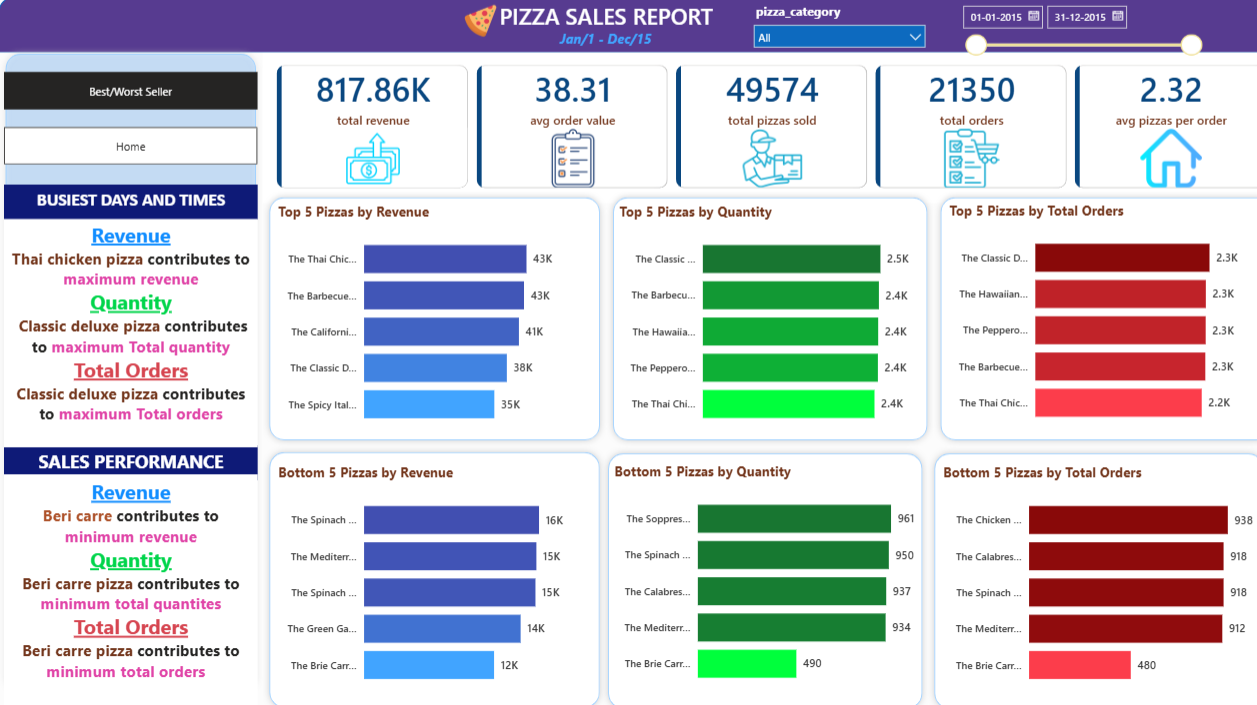

This screenshot's page, from the dashboard's own definition file:
{"tool":"powerbi","page":{"name":"Best/Worst Seller","canvas":[1550,889],"ordinal":1},"visuals":[{"type":"cardVisual","fields":{"Data":["pizza_sales.total revenue","pizza_sales.avg order value","pizza_sales.total pizzas sold","pizza_sales.total orders","pizza_sales.avg pizzas per order"]},"box":[318.8,86,1230.6,183.9],"z":0},{"type":"shape","box":[0,20.8,1536.1,66.7],"z":1000},{"type":"textbox","box":[575.2,20.9,316.1,51.5],"z":2000},{"type":"textbox","box":[625.3,54.3,215.9,40.4],"z":3000},{"type":"image","box":[561.2,27.9,40.4,44.6],"z":4000},{"type":"shape","box":[318.6,255.2,415.2,309.5],"z":5000},{"type":"shape","box":[0,81.7,318.3,786.7],"z":15000},{"type":"textbox","box":[6.7,563.3,306.7,41.7],"z":16000},{"type":"textbox","box":[6.7,286.7,306.7,278.3],"z":17000},{"type":"textbox","box":[6.7,248.3,306.7,41.7],"z":18000},{"type":"textbox","box":[6.7,598.3,306.7,290],"z":19000},{"type":"slicer","fields":{"Values":["pizza_sales.pizza_category"]},"box":[901.4,22.6,228,64.9],"z":20000},{"type":"slicer","fields":{"Values":["pizza_sales.order_date"]},"box":[1152,21.1,309.5,74],"z":21000},{"type":"shape","box":[733.8,255.2,395.6,309.5],"z":21001},{"type":"shape","box":[1129.4,255.2,415.2,309.5],"z":21002},{"type":"shape","box":[1121.8,564.7,413.7,324.6],"z":21003},{"type":"shape","box":[318.3,563.3,415,325],"z":21004},{"type":"shape","box":[727.8,564.7,395.6,324.6],"z":21005},{"type":"barChart","title":"Top 5 Pizzas by Revenue","fields":{"Category":["pizza_sales.pizza_name"],"Y":["pizza_sales.total revenue"]},"box":[332.2,268.8,385,285.4],"z":21006},{"type":"barChart","title":"Bottom 5 Pizzas by Revenue","fields":{"Category":["pizza_sales.pizza_name"],"Y":["pizza_sales.total revenue"]},"box":[331.7,585,385,285],"z":21007},{"type":"barChart","title":"Top 5 Pizzas by Quantity","fields":{"Category":["pizza_sales.pizza_name"],"Y":["pizza_sales.total pizzas sold"]},"box":[745,268.3,373.3,285],"z":21008},{"type":"barChart","title":"Bottom 5 Pizzas by Quantity","fields":{"Category":["pizza_sales.pizza_name"],"Y":["pizza_sales.total pizzas sold"]},"box":[738.3,583.3,373.3,285],"z":21009},{"type":"barChart","title":"Top 5 Pizzas by Total Orders","fields":{"Category":["pizza_sales.pizza_name"],"Y":["pizza_sales.total orders"]},"box":[1143.3,266.7,385,285],"z":21010},{"type":"barChart","title":"Bottom 5 Pizzas by Total Orders","fields":{"Category":["pizza_sales.pizza_name"],"Y":["pizza_sales.total orders"]},"box":[1135,585,385,285],"z":21011},{"type":"pageNavigator","box":[6.7,111.7,306.7,45],"z":21012},{"type":"pageNavigator","box":[6.7,178.3,306.7,45],"z":21013}]}

Visuals, with their boxes in screenshot pixels (x1, y1, x2, y2), scaled from the page's 1550x889 canvas onto the 1257x705 screenshot:
cardVisual - pizza_sales.total revenue x pizza_sales.avg order value: l=259, t=68, r=1256, b=214
shape: l=0, t=16, r=1246, b=69
textbox: l=466, t=17, r=723, b=57
textbox: l=507, t=43, r=682, b=75
image: l=455, t=22, r=488, b=57
shape: l=258, t=202, r=595, b=448
shape: l=0, t=65, r=258, b=689
textbox: l=5, t=447, r=254, b=480
textbox: l=5, t=227, r=254, b=448
textbox: l=5, t=197, r=254, b=230
textbox: l=5, t=474, r=254, b=704
slicer - pizza_sales.pizza_category: l=731, t=18, r=916, b=69
slicer - pizza_sales.order_date: l=934, t=17, r=1185, b=75
shape: l=595, t=202, r=916, b=448
shape: l=916, t=202, r=1253, b=448
shape: l=910, t=448, r=1245, b=704
shape: l=258, t=447, r=595, b=704
shape: l=590, t=448, r=911, b=704
"Top 5 Pizzas by Revenue" barChart: l=269, t=213, r=582, b=439
"Bottom 5 Pizzas by Revenue" barChart: l=269, t=464, r=581, b=690
"Top 5 Pizzas by Quantity" barChart: l=604, t=213, r=907, b=439
"Bottom 5 Pizzas by Quantity" barChart: l=599, t=463, r=901, b=689
"Top 5 Pizzas by Total Orders" barChart: l=927, t=212, r=1239, b=438
"Bottom 5 Pizzas by Total Orders" barChart: l=920, t=464, r=1233, b=690
pageNavigator: l=5, t=89, r=254, b=124
pageNavigator: l=5, t=141, r=254, b=177
